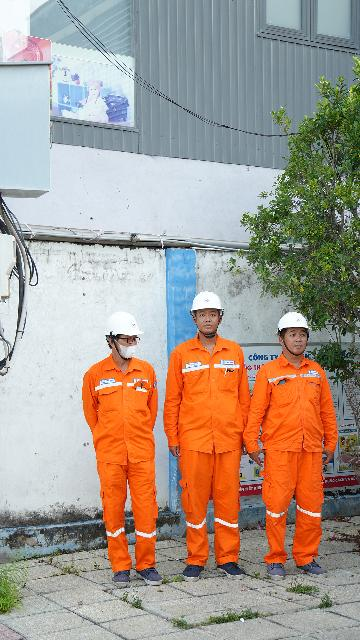helmet: (95, 301, 153, 347), (255, 303, 312, 344), (189, 285, 231, 321)
shoes: (289, 555, 335, 588), (213, 555, 249, 586), (99, 563, 135, 591), (179, 553, 206, 585), (138, 558, 163, 591), (261, 555, 289, 583)
